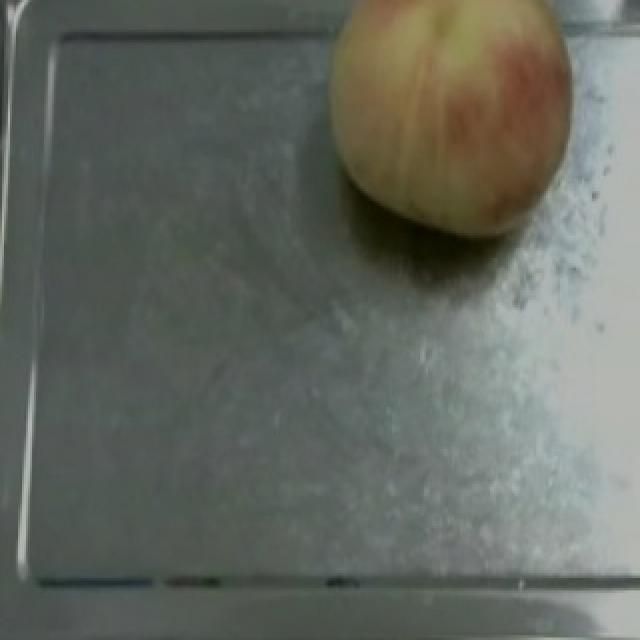Fruit: (300, 0, 614, 258)
